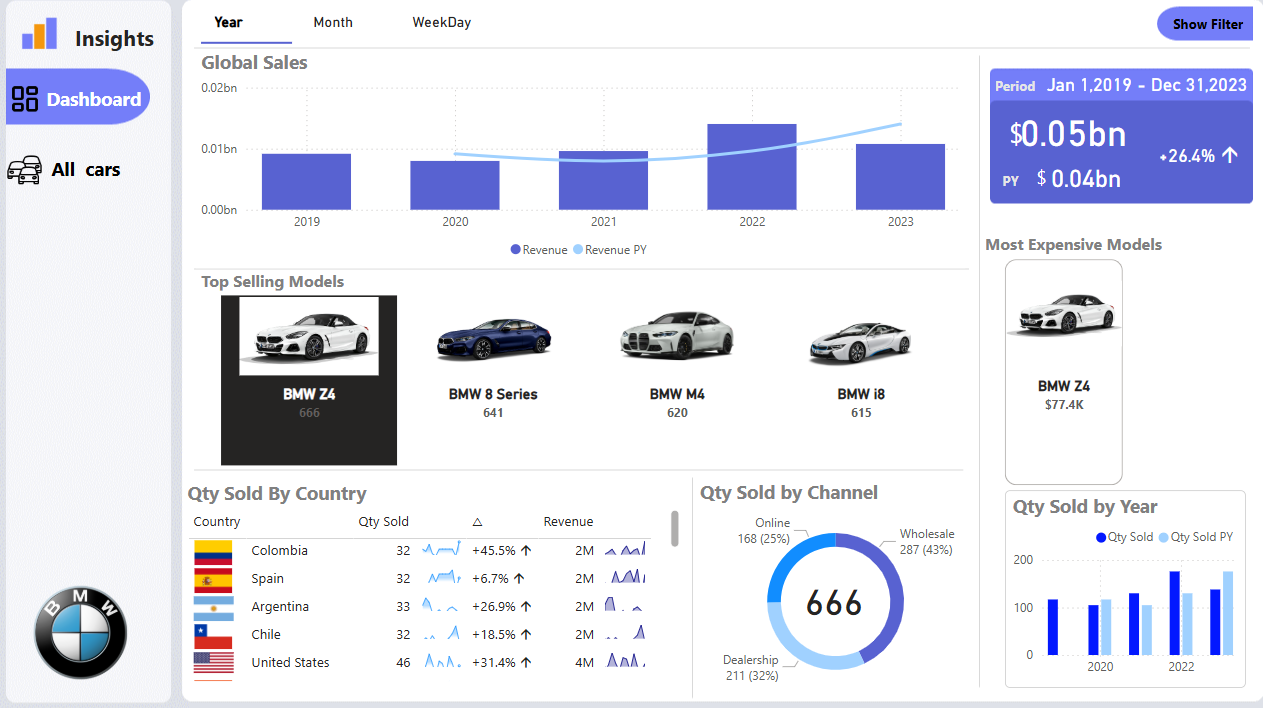

This screenshot's page, from the dashboard's own definition file:
{"tool":"powerbi","page":{"name":"BMW Dashboard","canvas":[1280,720],"ordinal":0},"visuals":[{"type":"advancedSlicerVisual","fields":{"Values":["PeriodSlicer.PeriodSlicer"]},"box":[201.1,0,300.8,55.2],"z":0},{"type":"textbox","box":[75.3,23.8,98.3,40],"z":0,"group":"g2"},{"type":"image","box":[10.3,13.8,68.3,48.3],"z":1000,"group":"g2"},{"type":"lineClusteredColumnComboChart","title":" Global Sales","fields":{"Category":["Calendar.Year"],"Y":["All Measures.Revenue"],"Y2":["All Measures.Revenue PY"]},"box":[201.1,55.2,768.9,218.9],"z":1000},{"type":"card","fields":{"Values":["All Measures.Revenue"]},"box":[1007.5,110,142.5,52.5],"z":2000,"group":"g3"},{"type":"card","fields":{"Values":["All Measures.Revenue PY"]},"box":[1030,156.2,122.5,55],"z":3000,"group":"g4"},{"type":"textbox","box":[1002,172.6,53.4,39.2],"z":4000,"group":"g4"},{"type":"card","fields":{"Values":["All Measures.Revenue Variance % Arrow"]},"box":[1135,135.4,133,55.1],"z":5000},{"type":"card","fields":{"Values":["All Measures.Selected Period"]},"box":[1037.6,64.1,229.6,55.2],"z":6000},{"type":"textbox","box":[994.9,77,60.5,44.5],"z":7000},{"type":"advancedSlicerVisual","title":"Top Selling Models","fields":{"Values":["dimModel.Model"]},"box":[201.3,274.5,780.2,202.5],"z":8000},{"type":"advancedSlicerVisual","title":"Most Expensive Models","fields":{"Values":["dimModel.Model"]},"box":[985.2,238.5,294.8,257.7],"z":9000},{"type":"clusteredColumnChart","title":"Qty Sold by Year","fields":{"Y":["All Measures.Qty Sold","All Measures.Qty Sold PY"],"Category":["Calendar.Year"]},"box":[1010.3,496.2,240.9,197.8],"z":10000},{"type":"donutChart","fields":{"Y":["All Measures.Qty Sold"],"Category":["dimChannel.Channel"]},"box":[699.9,485.4,281.6,220.5],"z":11000},{"type":"card","fields":{"Values":["All Measures.Qty Sold"]},"box":[783.8,575.3,110.3,59.9],"z":12000},{"type":"tableEx","title":"Qty Sold By Country","fields":{"Values":["dimCountry.Flag","dimCountry.Country","All Measures.Qty Sold","All Measures.Qty Sold Sparkline","All Measures.Qty Sold Variance % Arrow","All Measures.Revenue","All Measures.Revenue Sparkline"]},"box":[187,486.6,501.7,206.1],"z":13000},{"type":"textbox","box":[45.7,87.1,115.7,35.7],"z":14000},{"type":"image","box":[10,82.9,40,44.3],"z":15000},{"type":"image","box":[7.1,147.1,44.3,57.1],"z":16000},{"type":"textbox","box":[51.4,157.1,121.4,44.3],"z":17000},{"type":"actionButton","box":[6.2,153.8,172.5,45],"z":18000},{"type":"group","id":"g1","title":"Filter Pane","box":[905.7,12.5,353.3,471.7],"z":19000},{"type":"image","box":[34,584.1,103.2,108.9],"z":20000},{"type":"actionButton","box":[1167.5,12.5,91.4,34.3],"z":20001,"group":"g1"},{"type":"group","id":"g2","title":"Group 1","box":[10.3,13.8,163.3,50],"z":20001},{"type":"textbox","box":[1008.7,115,50,46.2],"z":20002,"group":"g3"},{"type":"textbox","box":[1036.2,165,42.5,38.8],"z":20003,"group":"g4"},{"type":"group","id":"g3","title":"Group 2","box":[1007.5,110,142.5,52.5],"z":20004},{"type":"group","id":"g4","title":"Group 3","box":[1002,156.2,150.5,55.5],"z":20005}]}

Visuals, with their boxes on the page's 1280x720 design canvas (x1, y1, x2, y2). These are canvas units, not pixel positions in the 1263x708 screenshot, which may show the page scaled, cropped or inside an application window:
advancedSlicerVisual - PeriodSlicer.PeriodSlicer: left=201, top=0, right=502, bottom=55
textbox: left=75, top=24, right=174, bottom=64
image: left=10, top=14, right=79, bottom=62
" Global Sales" lineClusteredColumnComboChart: left=201, top=55, right=970, bottom=274
card - All Measures.Revenue: left=1008, top=110, right=1150, bottom=162
card - All Measures.Revenue PY: left=1030, top=156, right=1152, bottom=211
textbox: left=1002, top=173, right=1055, bottom=212
card - All Measures.Revenue Variance % Arrow: left=1135, top=135, right=1268, bottom=190
card - All Measures.Selected Period: left=1038, top=64, right=1267, bottom=119
textbox: left=995, top=77, right=1055, bottom=122
"Top Selling Models" advancedSlicerVisual: left=201, top=274, right=982, bottom=477
"Most Expensive Models" advancedSlicerVisual: left=985, top=238, right=1280, bottom=496
"Qty Sold by Year" clusteredColumnChart: left=1010, top=496, right=1251, bottom=694
donutChart - All Measures.Qty Sold x dimChannel.Channel: left=700, top=485, right=982, bottom=706
card - All Measures.Qty Sold: left=784, top=575, right=894, bottom=635
"Qty Sold By Country" tableEx: left=187, top=487, right=689, bottom=693
textbox: left=46, top=87, right=161, bottom=123
image: left=10, top=83, right=50, bottom=127
image: left=7, top=147, right=51, bottom=204
textbox: left=51, top=157, right=173, bottom=201
actionButton: left=6, top=154, right=179, bottom=199
"Filter Pane" group: left=906, top=12, right=1259, bottom=484
image: left=34, top=584, right=137, bottom=693
actionButton: left=1168, top=12, right=1259, bottom=47
"Group 1" group: left=10, top=14, right=174, bottom=64
textbox: left=1009, top=115, right=1059, bottom=161
textbox: left=1036, top=165, right=1079, bottom=204
"Group 2" group: left=1008, top=110, right=1150, bottom=162
"Group 3" group: left=1002, top=156, right=1152, bottom=212
